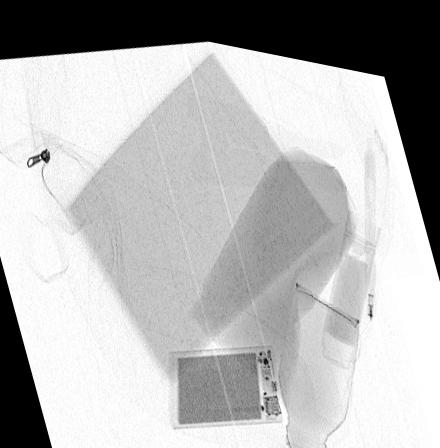Powerbank: (168, 333, 283, 420)
